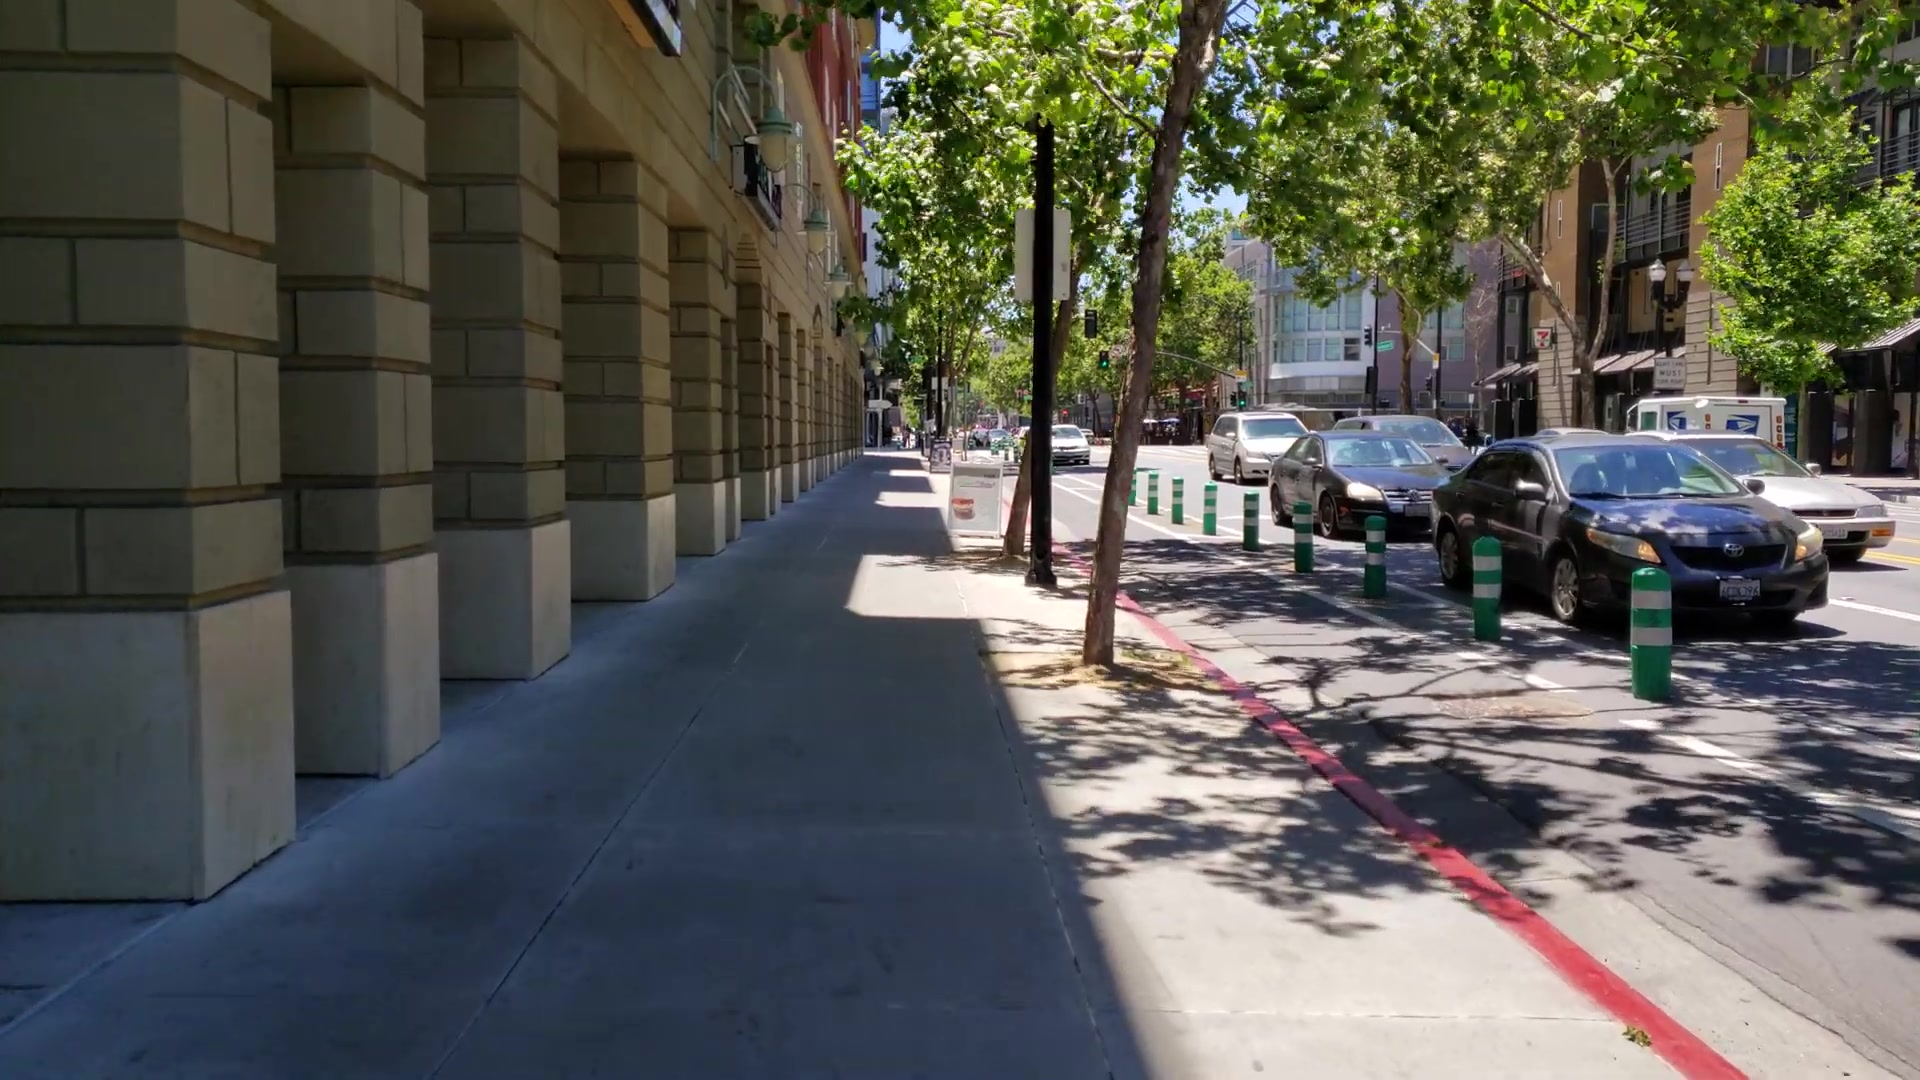vehicle: (1432, 435, 1829, 630), (1273, 429, 1453, 542)
